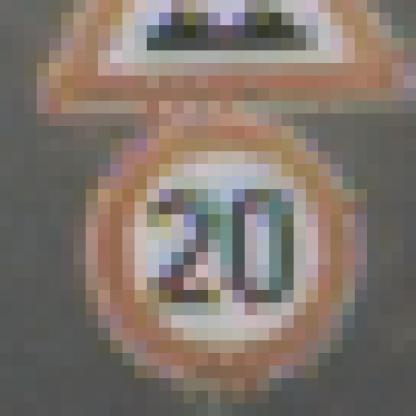Speed Limit 20: (93, 121, 358, 385)
